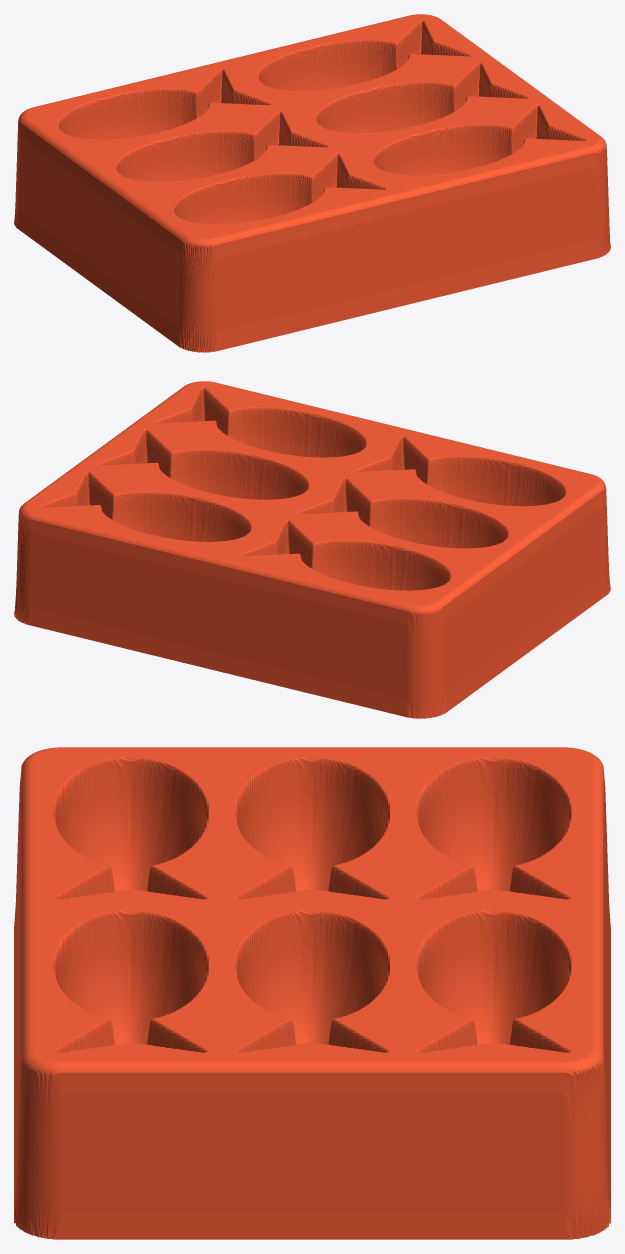
Rendered from mold.glb.
3 renders of one model, top to bottom at view 1: azimuth 30°, elevation 25°; view 2: azimuth 150°, elevation 25°; view 3: azimuth 270°, elevation 25°, orthographic. The views are drawn at different scales.
Visible parts, largest first — view 1: geometry_0; view 2: geometry_0; view 3: geometry_0.
Part boxes in pixels (bbox=[...]): geometry_0: bbox=[14, 14, 610, 352]; geometry_0: bbox=[14, 381, 610, 718]; geometry_0: bbox=[14, 747, 610, 1239].
Bounding box in the file's own units: 0.1492 × 0.036 × 0.1144.
